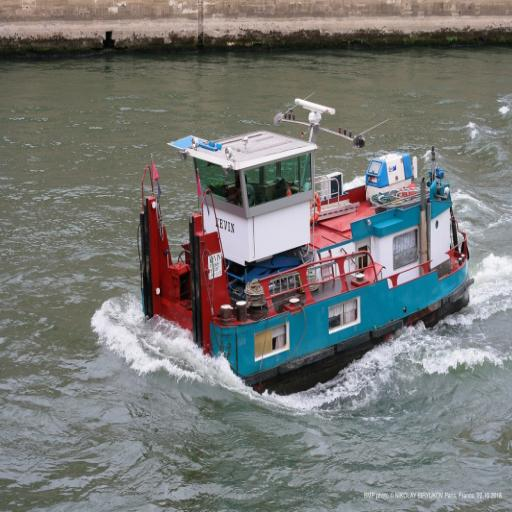tugboat: (141, 93, 477, 412)
